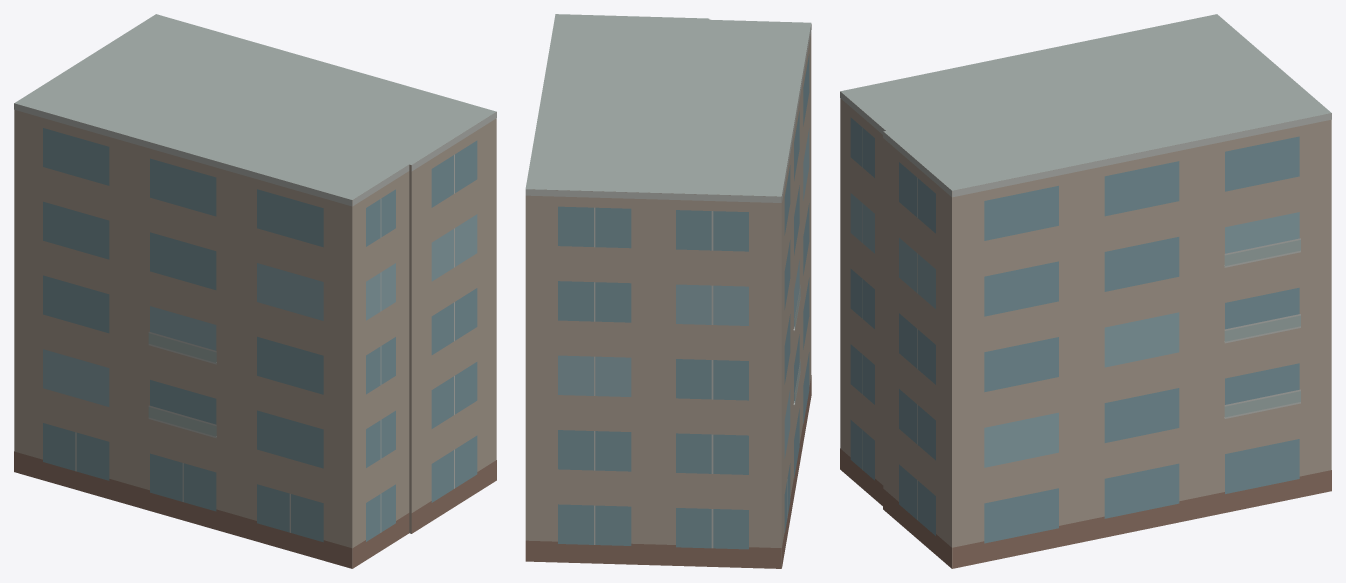
File: survey-upis-32641459.glb
3 renders of one model, left to right at view 1: azimuth 30°, elevation 25°; view 2: azimuth 150°, elevation 25°; view 3: azimuth 270°, elevation 25°, orthographic. The views are drawn at different scales.
Parts seen in each view (by area): view 1: survey-upis-32641459.tmp; view 2: survey-upis-32641459.tmp; view 3: survey-upis-32641459.tmp.
Boxes of the visible parts, x1,y1,x2,y2 form: survey-upis-32641459.tmp: (14,14,496,568); survey-upis-32641459.tmp: (525,14,811,568); survey-upis-32641459.tmp: (840,14,1331,568).
Bounding box in the file's own units: 14.05 × 14 × 16.51.
